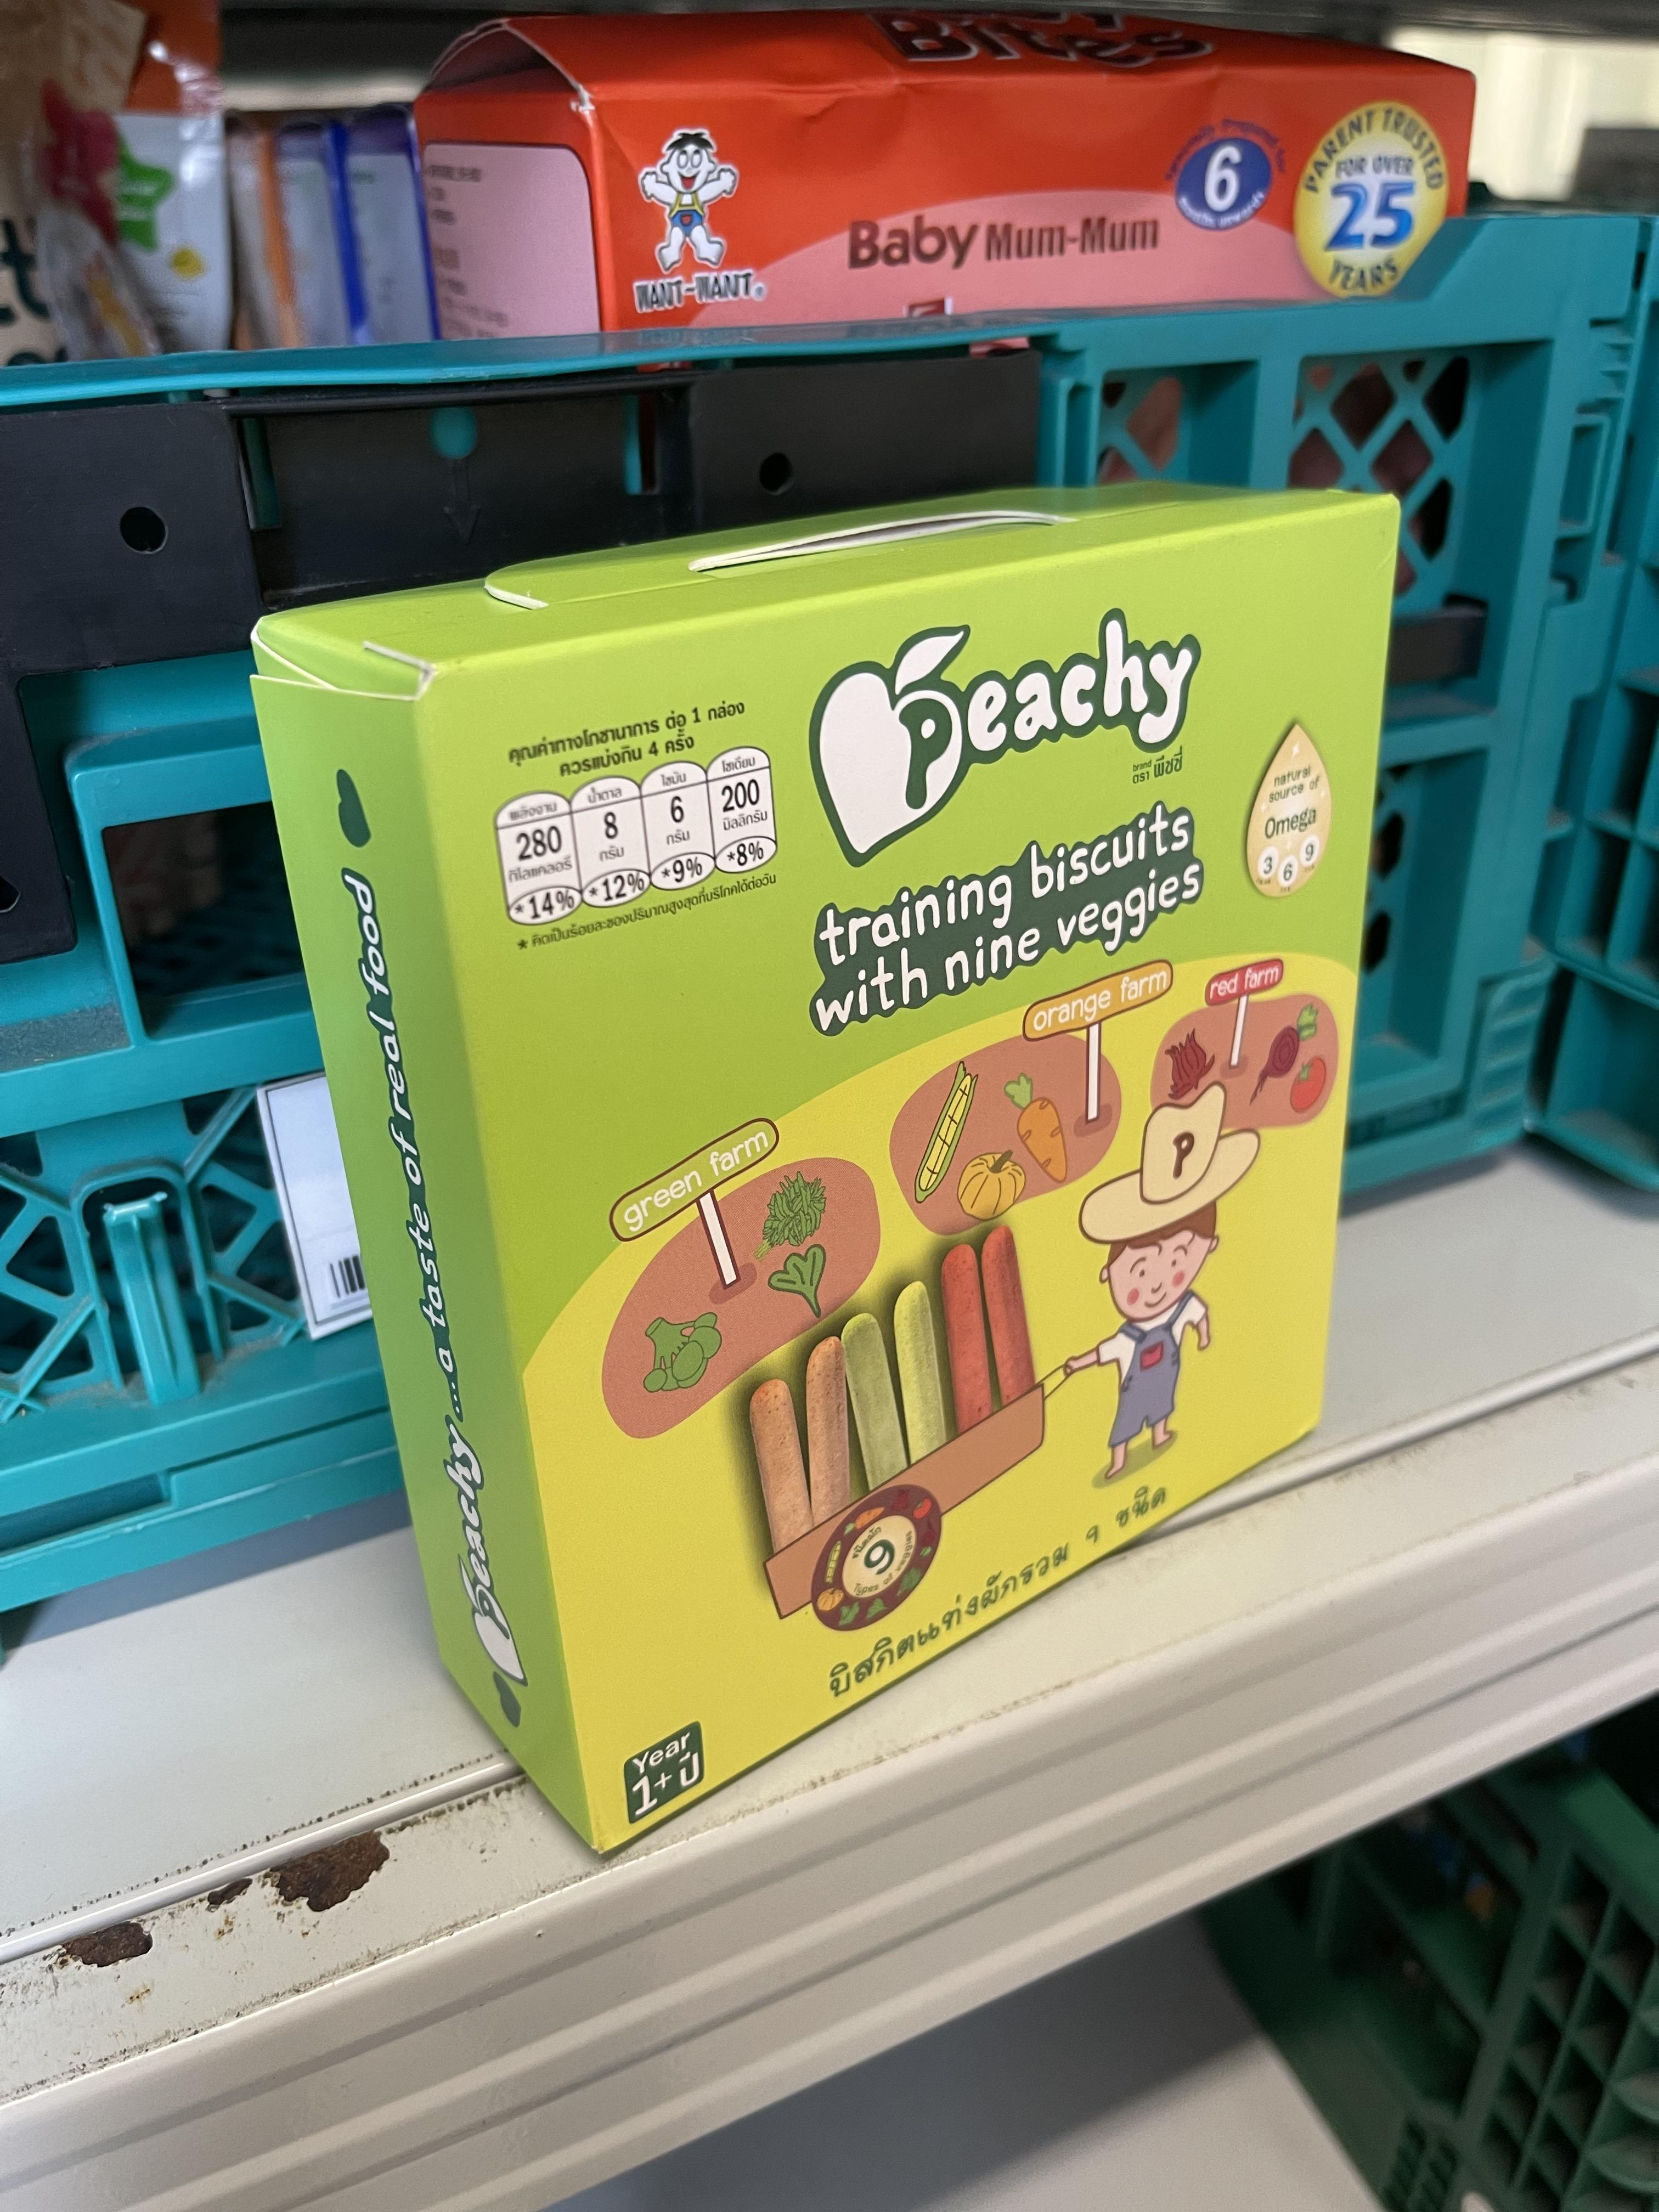object_name: (378, 582, 1323, 1649)
